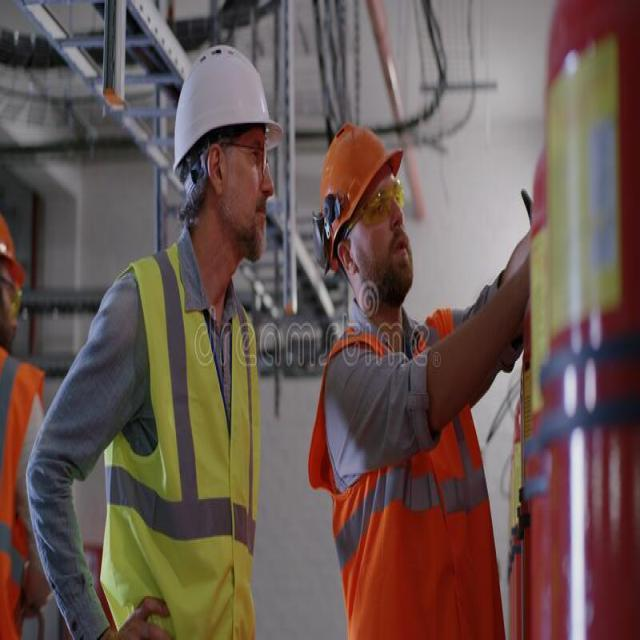fire_extinguisher: (522, 0, 639, 638)
